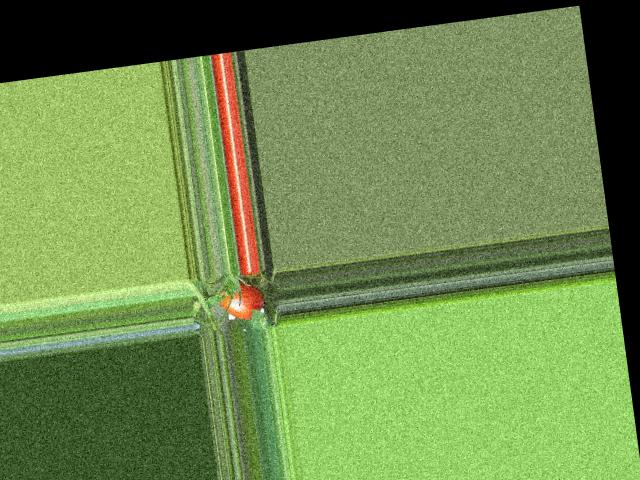tomato: (218, 280, 266, 322)
